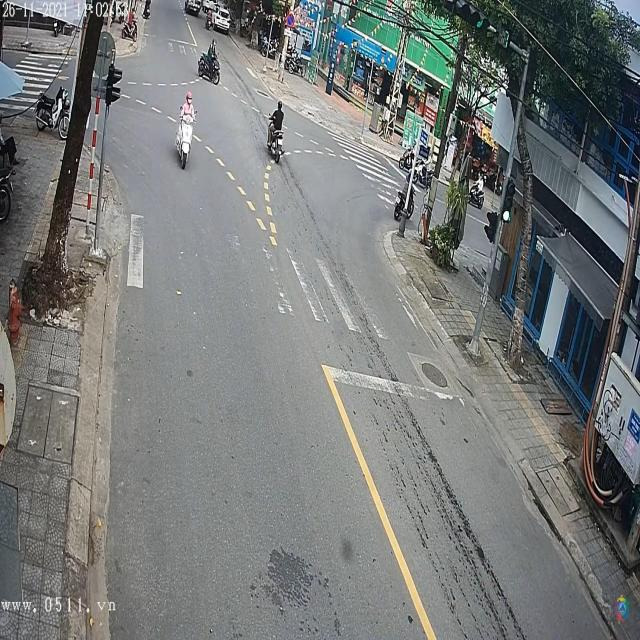car: (185, 1, 206, 17)
motorcycle: (175, 114, 197, 171), (196, 49, 221, 87), (266, 117, 287, 162)
